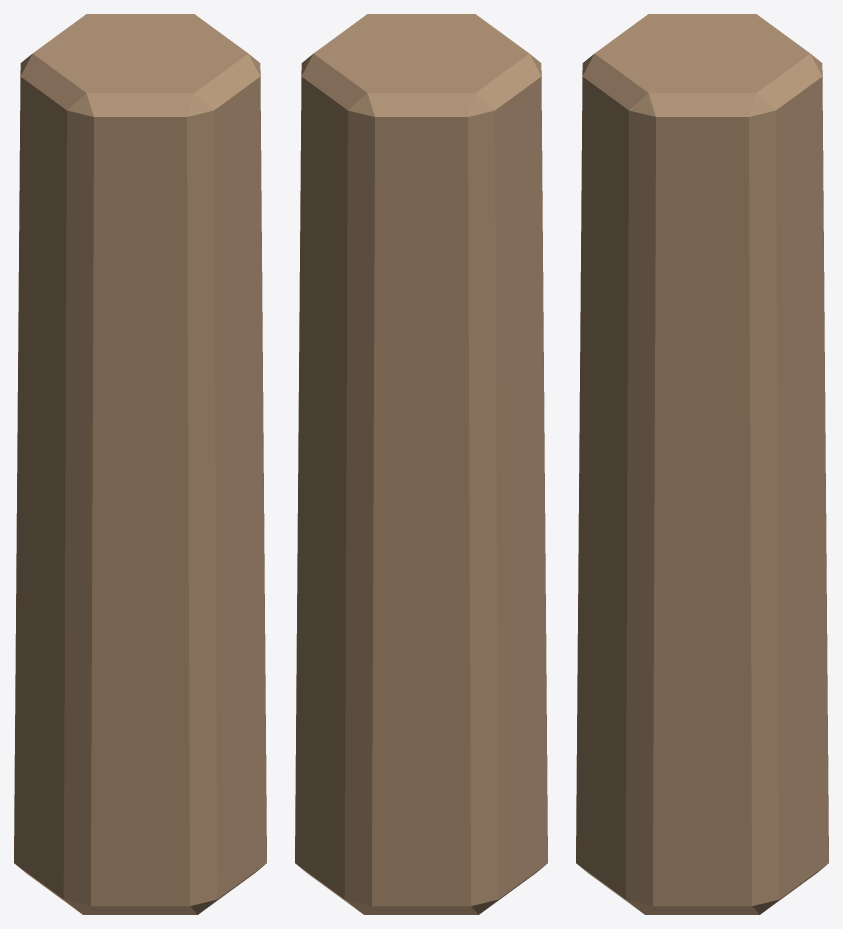
The model's file is ponte_pilar.fbx.
3 views of the same model, side by side, from view 1: azimuth 30°, elevation 25°; view 2: azimuth 150°, elevation 25°; view 3: azimuth 270°, elevation 25° (orthographic).
Visible parts, largest first — view 1: ponte_pilar~Pilar@wooddark; view 2: ponte_pilar~Pilar@wooddark; view 3: ponte_pilar~Pilar@wooddark.
Boxes of the visible parts, x1,y1,x2,y2 form: ponte_pilar~Pilar@wooddark: (14, 14, 266, 914); ponte_pilar~Pilar@wooddark: (295, 14, 547, 914); ponte_pilar~Pilar@wooddark: (576, 14, 828, 914).
Bounding box in the file's own units: 0.2595 × 1 × 0.2797.
